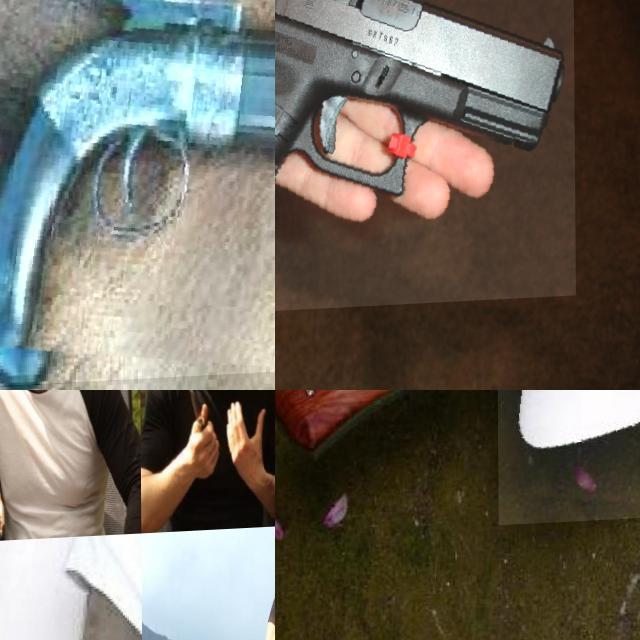-: (495, 390, 640, 618), (181, 390, 220, 474), (0, 395, 18, 499)
gun-knife-thesis - v11 Yolov5 augmented: (0, 0, 275, 388), (275, 0, 575, 320)
